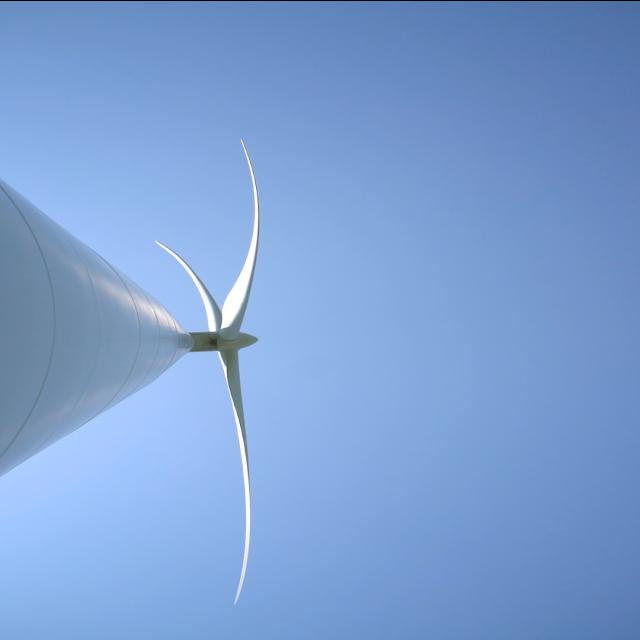blade 1: (154, 234, 212, 298)
blade 2: (224, 360, 286, 608)
blade 3: (222, 75, 284, 326)
